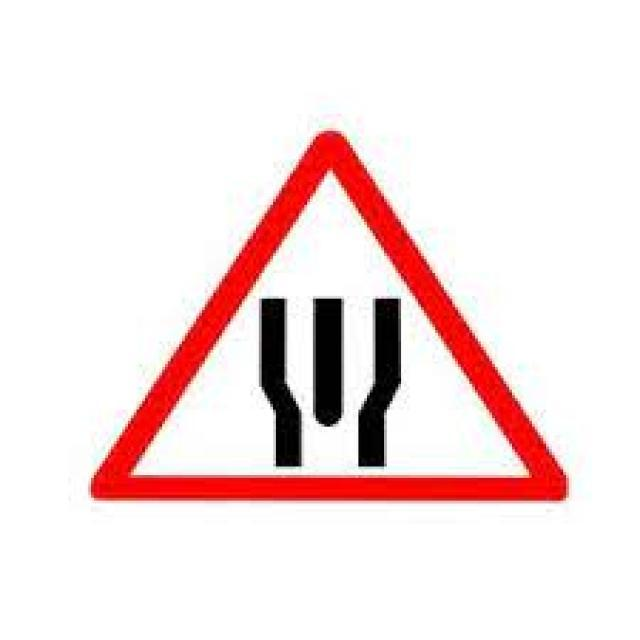road widens ahead: (84, 128, 570, 507)
